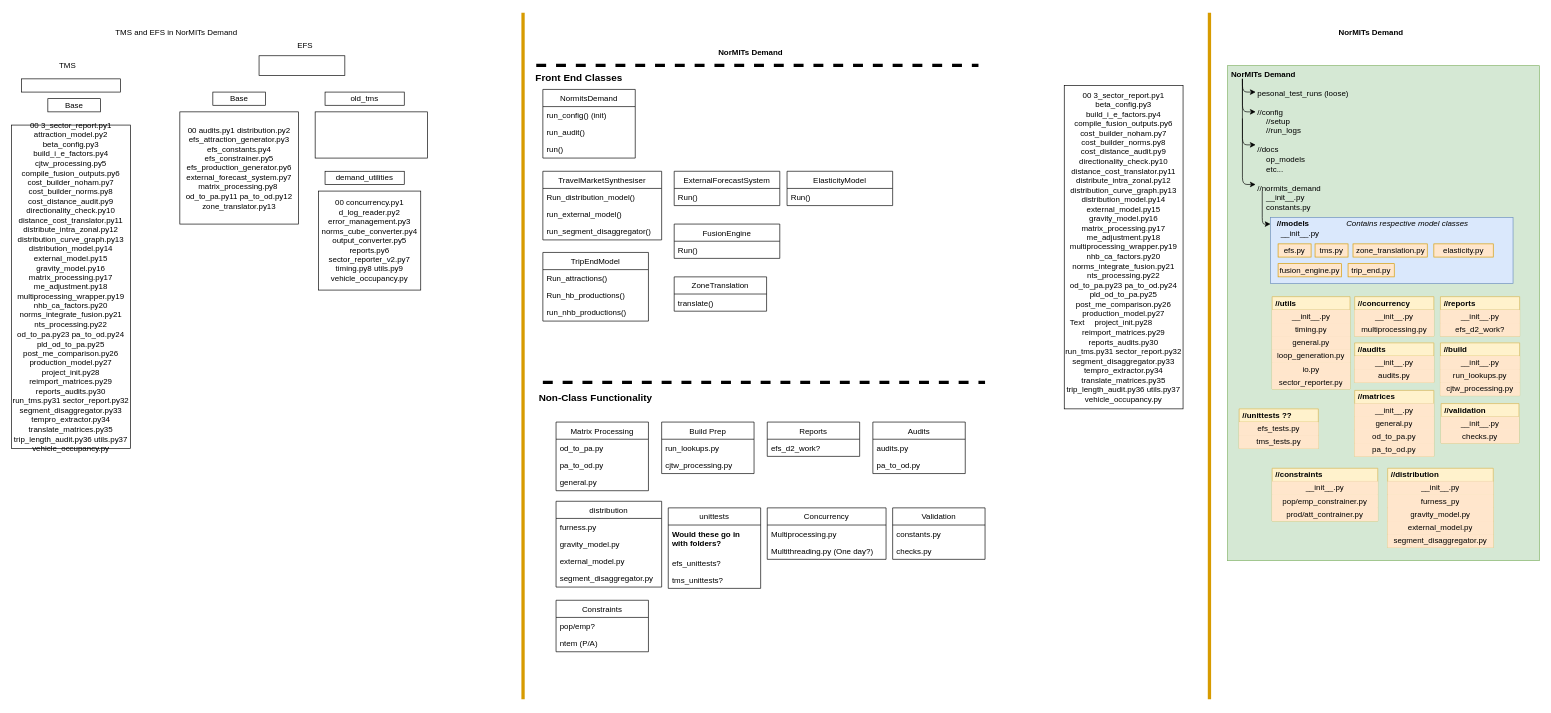
This 1551x713 diagram has some shape labels left out. The shapes that lost their labels are listed below. From the top down, each one's centre as x and y in pixels, then its label:
the point at 70,85: Travel-Market-Synthesiser
the point at 301,65: NorMITs-Demand
the point at 370,134: 00 multiprocessing_wrapper.py1 pa_to_od.py2 utils.py3 vehicle_occupancy.py
